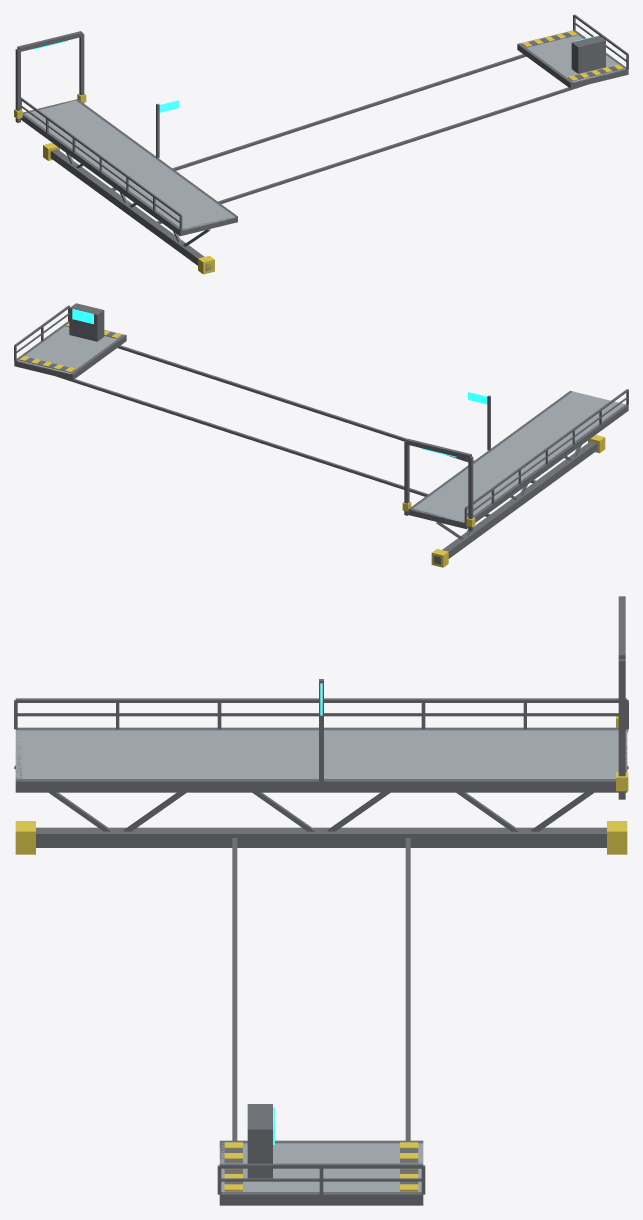
Rendered from scaffold_splitter_hub_g08.glb.
3 renders of one model, top to bottom at view 1: azimuth 30°, elevation 25°; view 2: azimuth 150°, elevation 25°; view 3: azimuth 270°, elevation 25°, orthographic. The views are drawn at different scales.
Parts seen in each view (by area): view 1: Deck_a, Spine, Hanger_station_1, Hanger_station_0, Deck_station, Frame_a_-1, Console, Rail_a_-1, Frame_a_1, Frame_station_-1, MidRail_a_-1, PortalLintel (+2 smaller); view 2: Deck_a, Spine, Deck_station, Hanger_station_0, Frame_a_-1, Hanger_station_1, Console, Rail_a_-1, Frame_a_1, Frame_station_-1, PortalLintel, MidRail_a_-1 (+4 smaller); view 3: Deck_a, Spine, Frame_a_1, Deck_station, Rail_a_-1, Frame_station_1, Frame_a_-1, MidRail_a_-1, Console, Hanger_station_0, Hanger_station_1, Rail_station_1 (+1 smaller).
Part boxes in pixels (x1,y1,x2,y2): Deck_a: (24,100,235,230); Spine: (50,149,212,271); Hanger_station_1: (157,85,586,223); Hanger_station_0: (111,54,526,190); Deck_station: (520,30,624,82); Frame_a_-1: (21,113,182,236); Console: (571,35,605,73); Rail_a_-1: (21,97,181,215); Frame_a_1: (75,99,237,222); Frame_station_-1: (517,43,573,88); MidRail_a_-1: (21,105,179,222); PortalLintel: (17,31,82,51); Deck_a: (411,391,624,523); Spine: (434,441,597,564); Deck_station: (17,326,123,374); Hanger_station_0: (57,376,490,516); Frame_a_-1: (464,405,626,529); Hanger_station_1: (118,345,535,483); Console: (69,303,104,341); Rail_a_-1: (465,389,628,509); Frame_a_1: (408,391,572,514); Frame_station_-1: (70,334,126,380); PortalLintel: (406,438,471,459); MidRail_a_-1: (467,397,627,515); Deck_a: (15,730,627,778); Spine: (36,827,606,847); Frame_a_1: (15,779,618,792); Deck_station: (219,1143,423,1191); Rail_a_-1: (15,698,627,702); Frame_station_1: (219,1192,423,1205); Frame_a_-1: (15,727,627,730); MidRail_a_-1: (17,713,618,716); Console: (247,1104,272,1178); Hanger_station_0: (405,838,410,1140); Hanger_station_1: (232,838,237,1140); Rail_station_1: (219,1163,423,1168).
Bounding box in the file's own units: 21.92 × 4.84 × 12.07.
